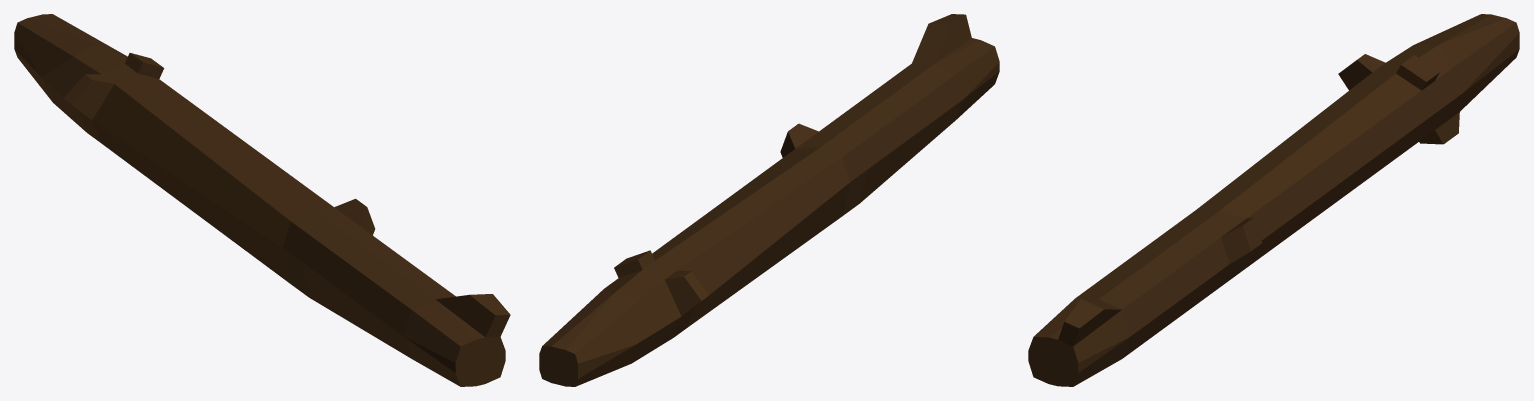
Rendered from Tronco.fbx.
3 views of the same model, side by side, from view 1: azimuth 30°, elevation 25°; view 2: azimuth 150°, elevation 25°; view 3: azimuth 330°, elevation 25° (orthographic). The views are drawn at different scales.
Visible parts, largest first — view 1: Tronco:Mesh; view 2: Tronco:Mesh; view 3: Tronco:Mesh.
Boxes of the visible parts, x1,y1,x2,y2 form: Tronco:Mesh: (14,14,510,386); Tronco:Mesh: (539,14,999,386); Tronco:Mesh: (1028,14,1519,386).
Bounding box in the file's own units: 4.61 × 3.98 × 32.99.
